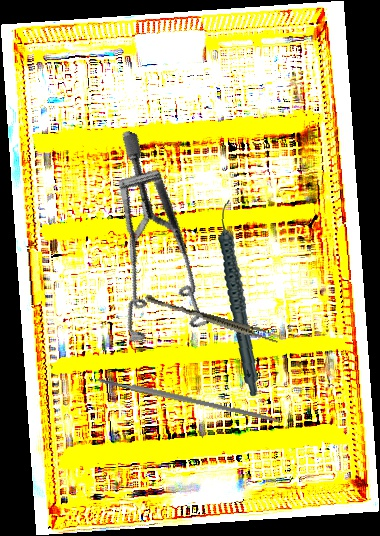Handpiece: (206, 198, 272, 398)
Scalpel Handle: (96, 374, 283, 426)
Speculum: (51, 129, 265, 366)
Tissue Forceps: (143, 293, 281, 345)
